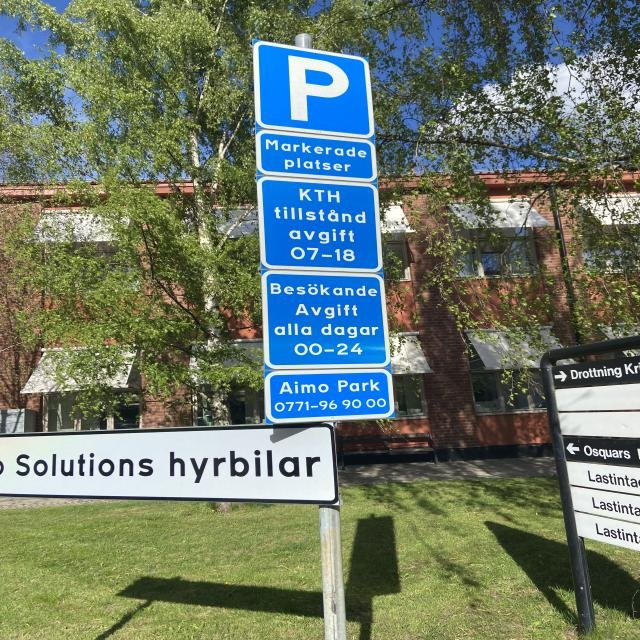P-skylt: (255, 41, 373, 137)
